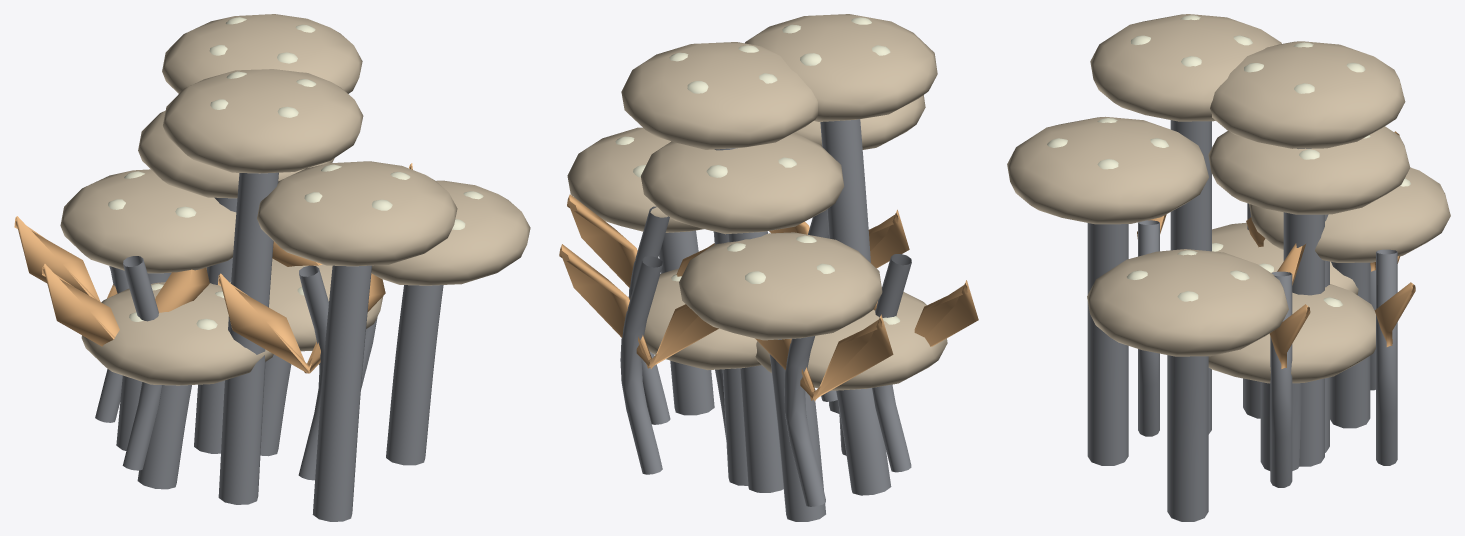
File: bio_spore_fungus_12_far.glb
3 renders of one model, left to right at view 1: azimuth 30°, elevation 25°; view 2: azimuth 150°, elevation 25°; view 3: azimuth 270°, elevation 25°, orthographic.
Visible parts, largest first — view 1: Thick umbrella cap.007, Thick umbrella cap.002, Thick umbrella cap.001, Thick umbrella cap.004, Curved stipe.002, Thick umbrella cap.003, Curved stipe.007, Thick umbrella cap.005, Curved stipe.005, Secondary fan lobe.008, Secondary fan lobe.004, Thick umbrella cap.006 (+9 smaller); view 2: Thick umbrella cap.001, Thick umbrella cap.003, Thick umbrella cap.006, Thick umbrella cap.007, Thick umbrella cap.005, Thick umbrella cap.004, Branching support.003, Secondary fan lobe.006, Curved stipe.007, Curved stipe.006, Thick umbrella cap, Curved stipe.004 (+15 smaller); view 3: Thick umbrella cap.005, Thick umbrella cap.002, Thick umbrella cap.003, Thick umbrella cap.007, Thick umbrella cap.006, Thick umbrella cap.001, Thick umbrella cap, Curved stipe.002, Curved stipe.005, Curved stipe.003, Branching support.003, Branching support (+13 smaller).
Part boxes in pixels (x1,y1,x2,y2): Thick umbrella cap.007: (163,69,363,173); Thick umbrella cap.002: (257,161,457,266); Thick umbrella cap.001: (60,169,236,273); Thick umbrella cap.004: (81,282,273,385); Curved stipe.002: (312,265,371,521); Thick umbrella cap.003: (162,14,362,93); Curved stipe.007: (218,172,278,504); Thick umbrella cap.005: (371,180,530,285); Curved stipe.005: (386,285,443,465); Secondary fan lobe.008: (42,264,209,346); Secondary fan lobe.004: (218,273,385,373); Thick umbrella cap.006: (138,110,334,198); Thick umbrella cap.001: (679,232,882,340); Thick umbrella cap.003: (621,42,817,149); Thick umbrella cap.006: (641,133,844,234); Thick umbrella cap.007: (745,14,937,121); Thick umbrella cap.005: (567,127,703,232); Thick umbrella cap.004: (755,287,947,390); Branching support.003: (620,256,662,474); Secondary fan lobe.006: (559,244,718,368); Curved stipe.007: (820,119,870,455); Curved stipe.006: (728,231,783,492); Thick umbrella cap: (629,268,761,370); Curved stipe.004: (836,388,891,495); Thick umbrella cap.005: (1087,249,1288,356); Thick umbrella cap.002: (1007,116,1208,224); Thick umbrella cap.003: (1210,41,1405,148); Thick umbrella cap.007: (1090,14,1281,121); Thick umbrella cap.006: (1208,126,1410,214); Thick umbrella cap.001: (1249,167,1450,262); Thick umbrella cap: (1208,284,1375,383); Curved stipe.002: (1087,223,1128,465); Curved stipe.005: (1167,355,1208,521); Curved stipe.003: (1283,148,1324,466); Branching support.003: (1376,249,1397,465); Branching support: (1270,271,1292,487).
Bounding box in the file's own units: 2.07 × 1.87 × 1.84.
